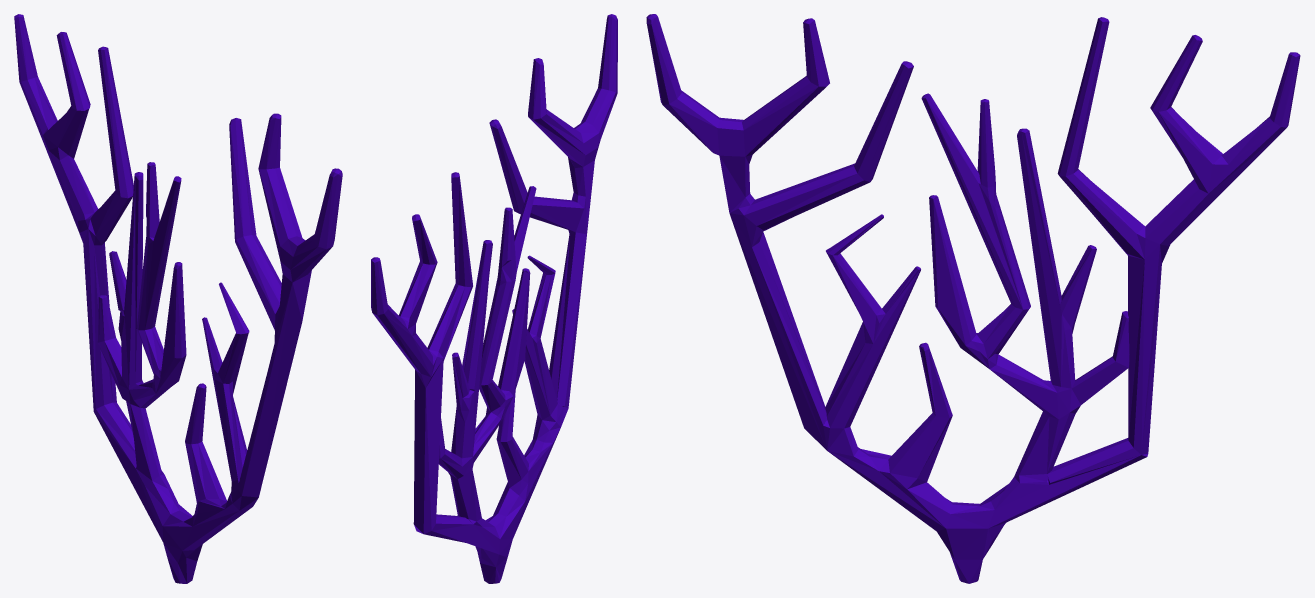
The model's file is coral2.obj.
The picture shows the model from 3 angles, left to right: view 1: azimuth 30°, elevation 25°; view 2: azimuth 150°, elevation 25°; view 3: azimuth 270°, elevation 25°; orthographic projection. The views are drawn at different scales.
Parts seen in each view (by area): view 1: Plane; view 2: Plane; view 3: Plane.
Boxes of the visible parts, x1,y1,x2,y2 form: Plane: (14, 14, 342, 583); Plane: (371, 14, 617, 583); Plane: (646, 14, 1300, 583).
Size of the model in its own units: 0.605 by 4.91 by 5.05.
Materials: 1 (1 with a texture image).
